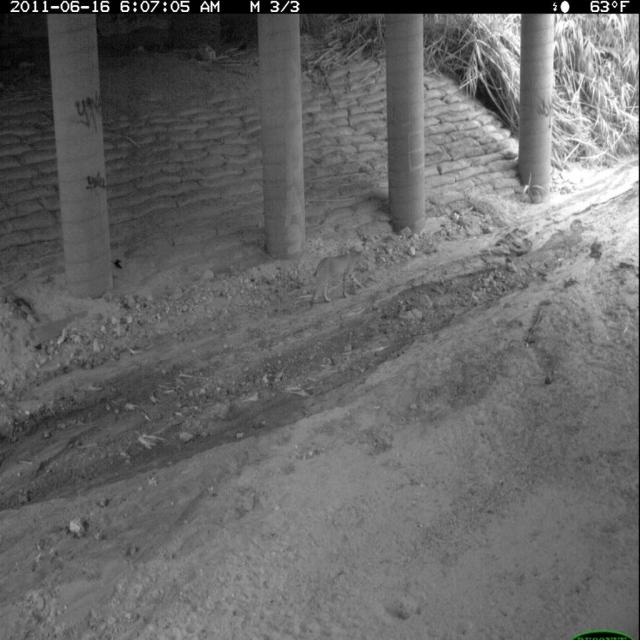bobcat: (305, 242, 368, 310)
